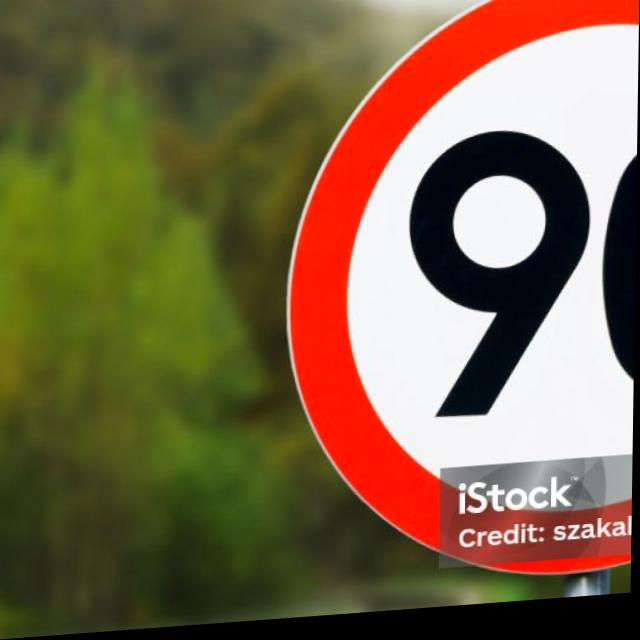Speed Limit -90-: (279, 0, 640, 607)
